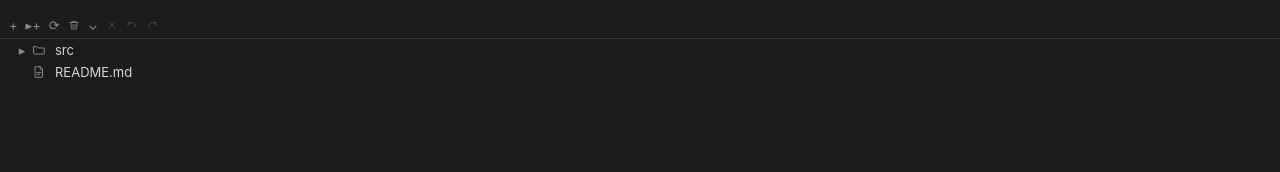
Explorer › lazily loads children when a directory is expanded
This screenshot has width=1280, height=172.
Click the text "src": [64, 50] box [55,42,74,58]
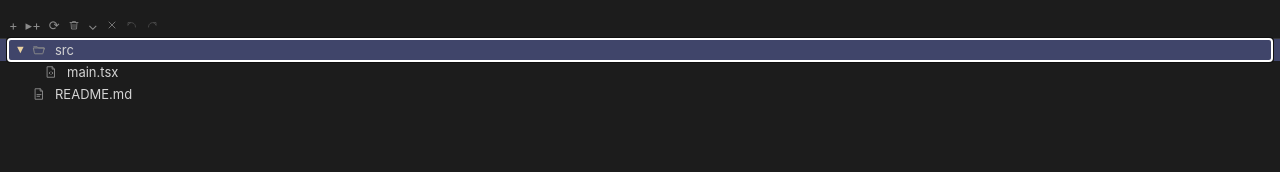
Expected: the text "main.tsx" is shown, [67,64,118,80]
